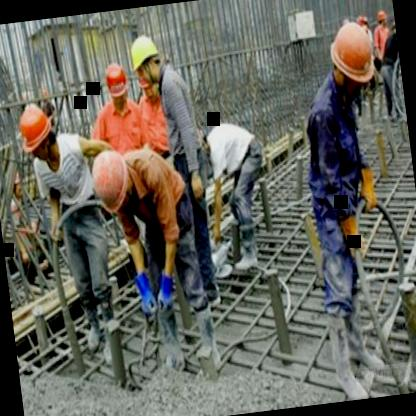helmet: (321, 13, 380, 97), (83, 148, 138, 218), (12, 98, 60, 170), (127, 30, 168, 93), (102, 57, 132, 106)
